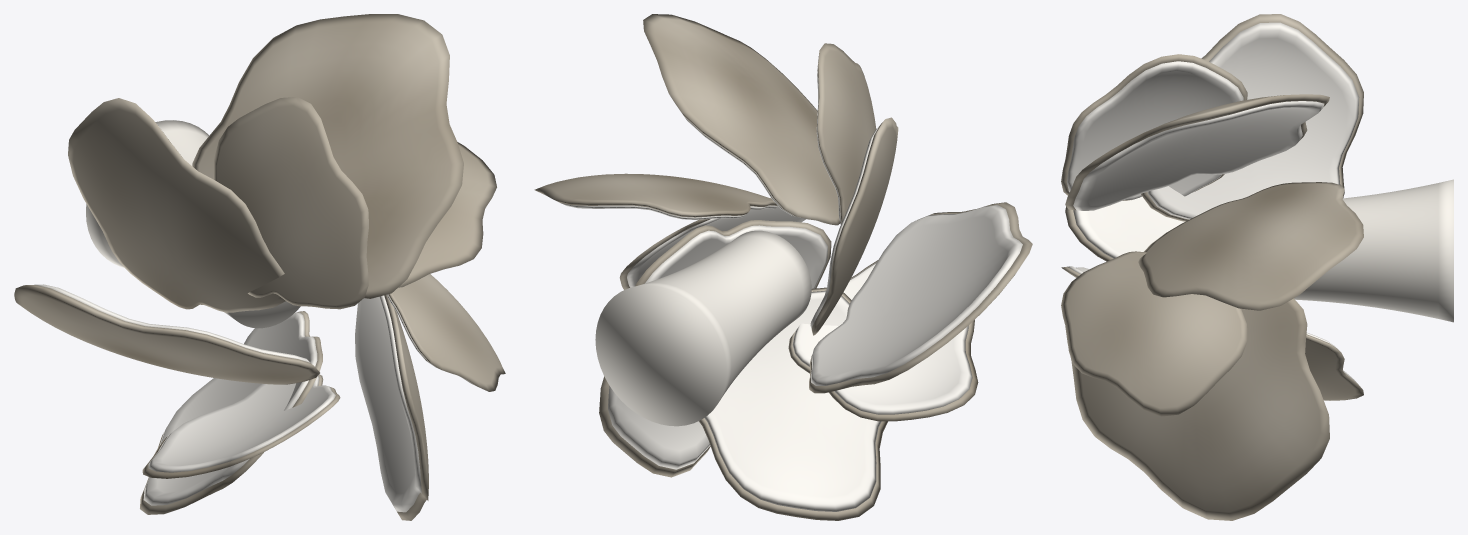
Rendered from grifola-frondosa.glb.
3 renders of one model, left to right at view 1: azimuth 30°, elevation 25°; view 2: azimuth 150°, elevation 25°; view 3: azimuth 270°, elevation 25°, orthographic. The views are drawn at different scales.
Visible parts, largest first — view 1: pileus_fronds, pore_surface, stipe_stem; view 2: pore_surface, pileus_fronds, stipe_stem; view 3: pileus_fronds, pore_surface, stipe_stem.
Part boxes in pixels (x1,y1,x2,y2): pileus_fronds: (14, 14, 505, 520); pore_surface: (35, 126, 479, 512); stipe_stem: (86, 120, 300, 328); pore_surface: (543, 62, 1022, 511); pileus_fronds: (534, 14, 1032, 520); stipe_stem: (595, 230, 811, 426); pileus_fronds: (1061, 14, 1363, 520); pore_surface: (1067, 22, 1359, 383); stipe_stem: (1294, 179, 1453, 322).
Bounding box in the file's own units: 2.09 × 1.98 × 1.65.
